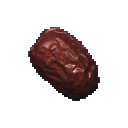gd: (14, 16, 115, 118)
